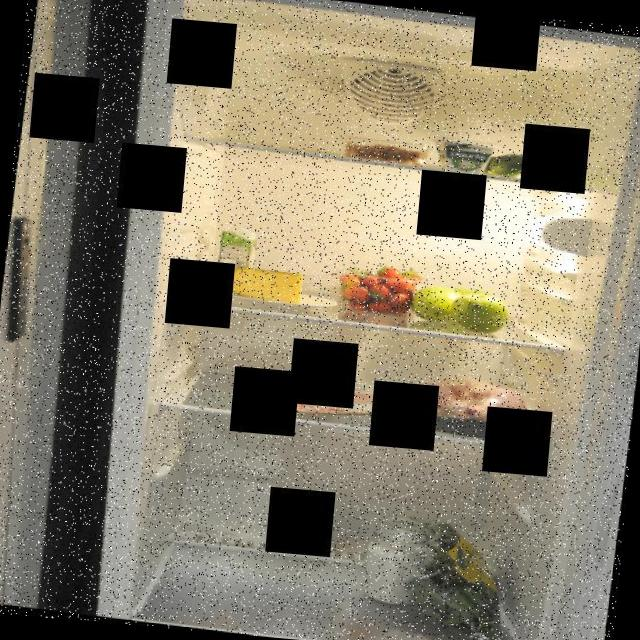Carne cerdo: (272, 379, 412, 420)
Carne pollo: (400, 365, 541, 444)
Gambas/Langostinos: (339, 138, 432, 169)
Manzana: (412, 278, 509, 336)
Queso: (224, 260, 306, 308)
